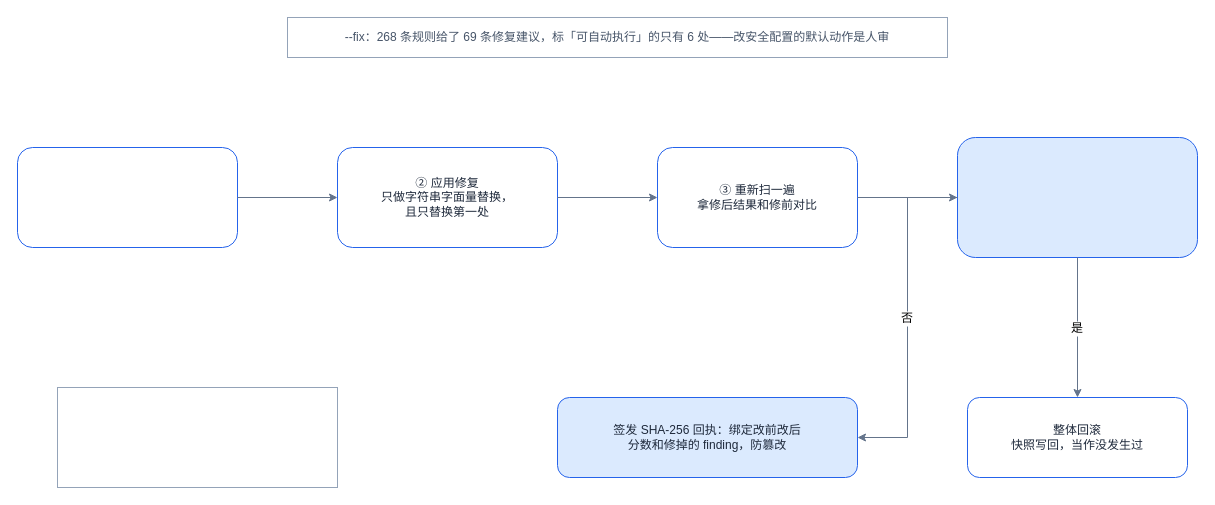
The diagram is 1215 pixels wide and 505 high, and some of its shapes have lost their labels. The centre of each missing label's shape, as x and y in pixels:
① 改前快照 每个将被修改的文件 先在内存里留底: the point at 127,197
分数回退，或 冒出新的 high 以上？: the point at 1077,197
动机在源码注释里：issue #102， 一次「自动收紧权限反被重新标红」 的真实事故: the point at 197,437
